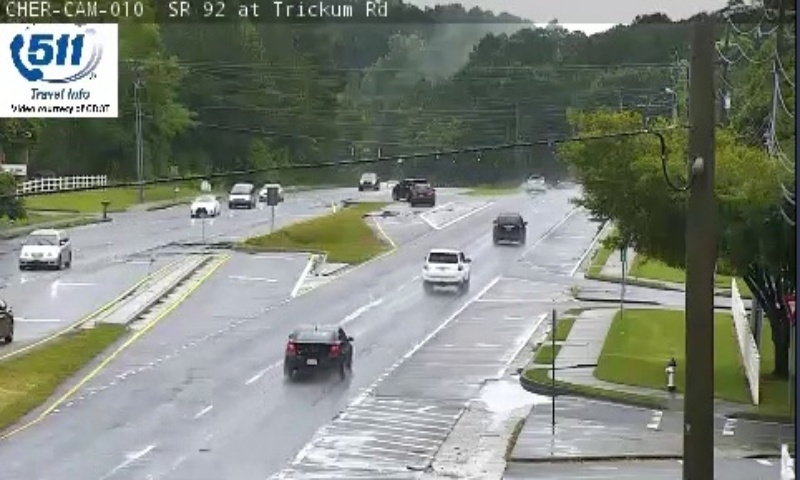car: (283, 326, 351, 369), (423, 247, 469, 285), (493, 212, 525, 245)
